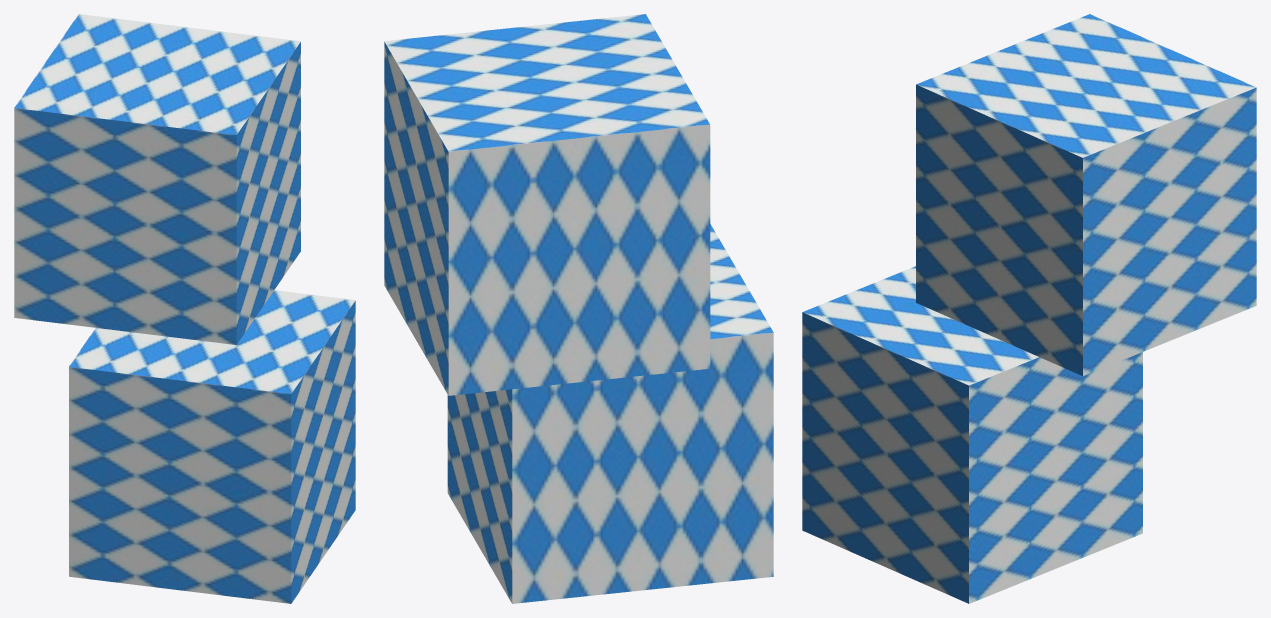
The model's file is skinnedCube.obj.
The picture shows the model from 3 angles, left to right: view 1: azimuth 30°, elevation 25°; view 2: azimuth 150°, elevation 25°; view 3: azimuth 270°, elevation 25°; orthographic projection. The views are drawn at different scales.
Visible parts, largest first — view 1: Cube.001_Cube.000, Cube_Cube.001; view 2: Cube.001_Cube.000, Cube_Cube.001; view 3: Cube.001_Cube.000, Cube_Cube.001.
Boxes of the visible parts, <box> form: Cube.001_Cube.000: <box>14,14,300,344</box>; Cube_Cube.001: <box>69,290,355,603</box>; Cube.001_Cube.000: <box>384,14,710,395</box>; Cube_Cube.001: <box>447,224,773,603</box>; Cube.001_Cube.000: <box>916,14,1256,375</box>; Cube_Cube.001: <box>802,266,1142,603</box>.
Bounding box in the file's own units: 2.83 × 4.09 × 3.77.
